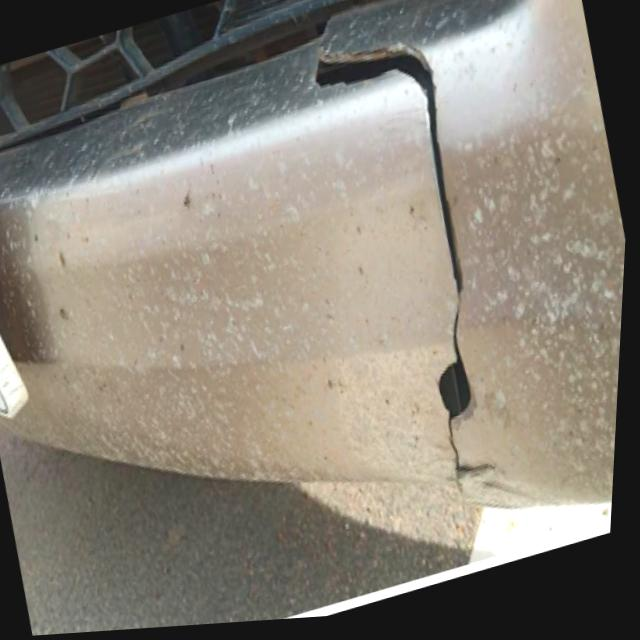Crack: (309, 36, 510, 502)
